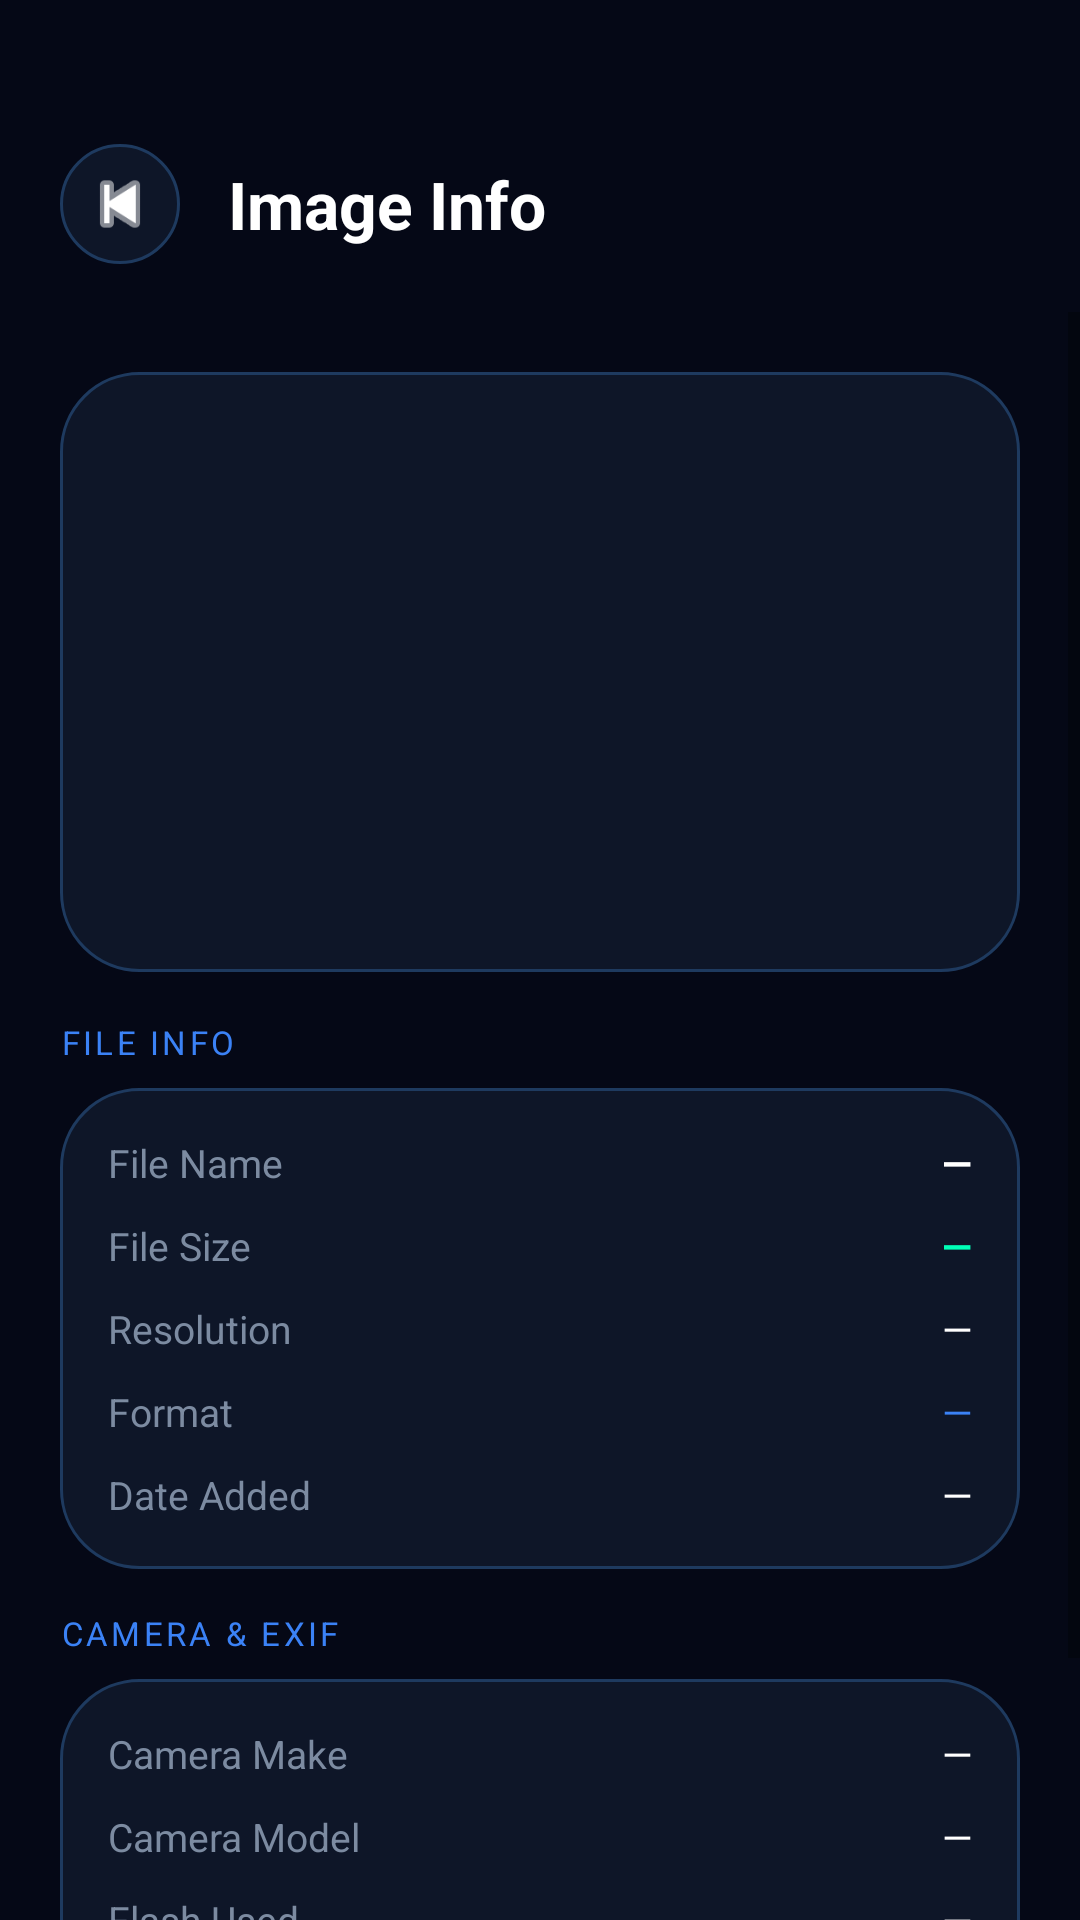

Screen size 1080px×1920px. Icon name, then its box in pixels as bbox=(x1, y1, x2, y2):
previous: bbox=(60, 144, 180, 264)
